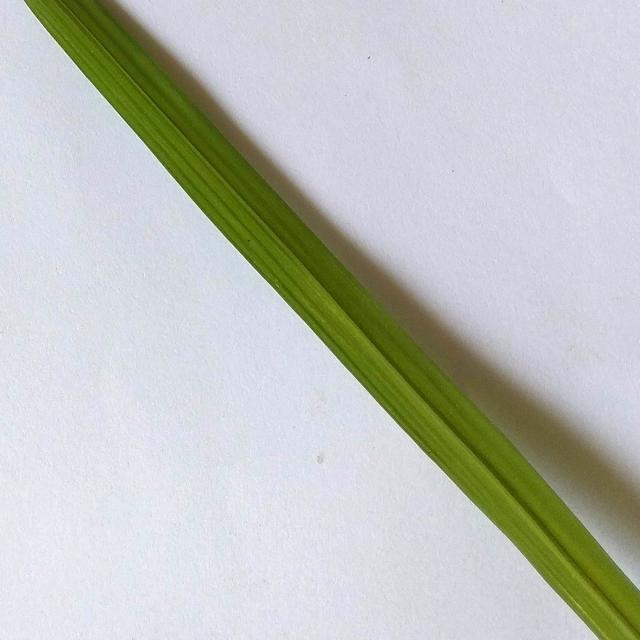Rice_Healthy: (25, 0, 640, 640)
